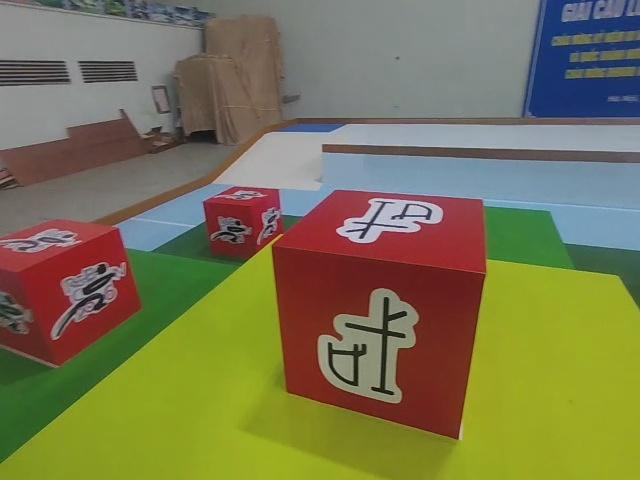R1: (0, 214, 145, 367), (199, 181, 285, 262)
R2 Real: (270, 185, 490, 444)
